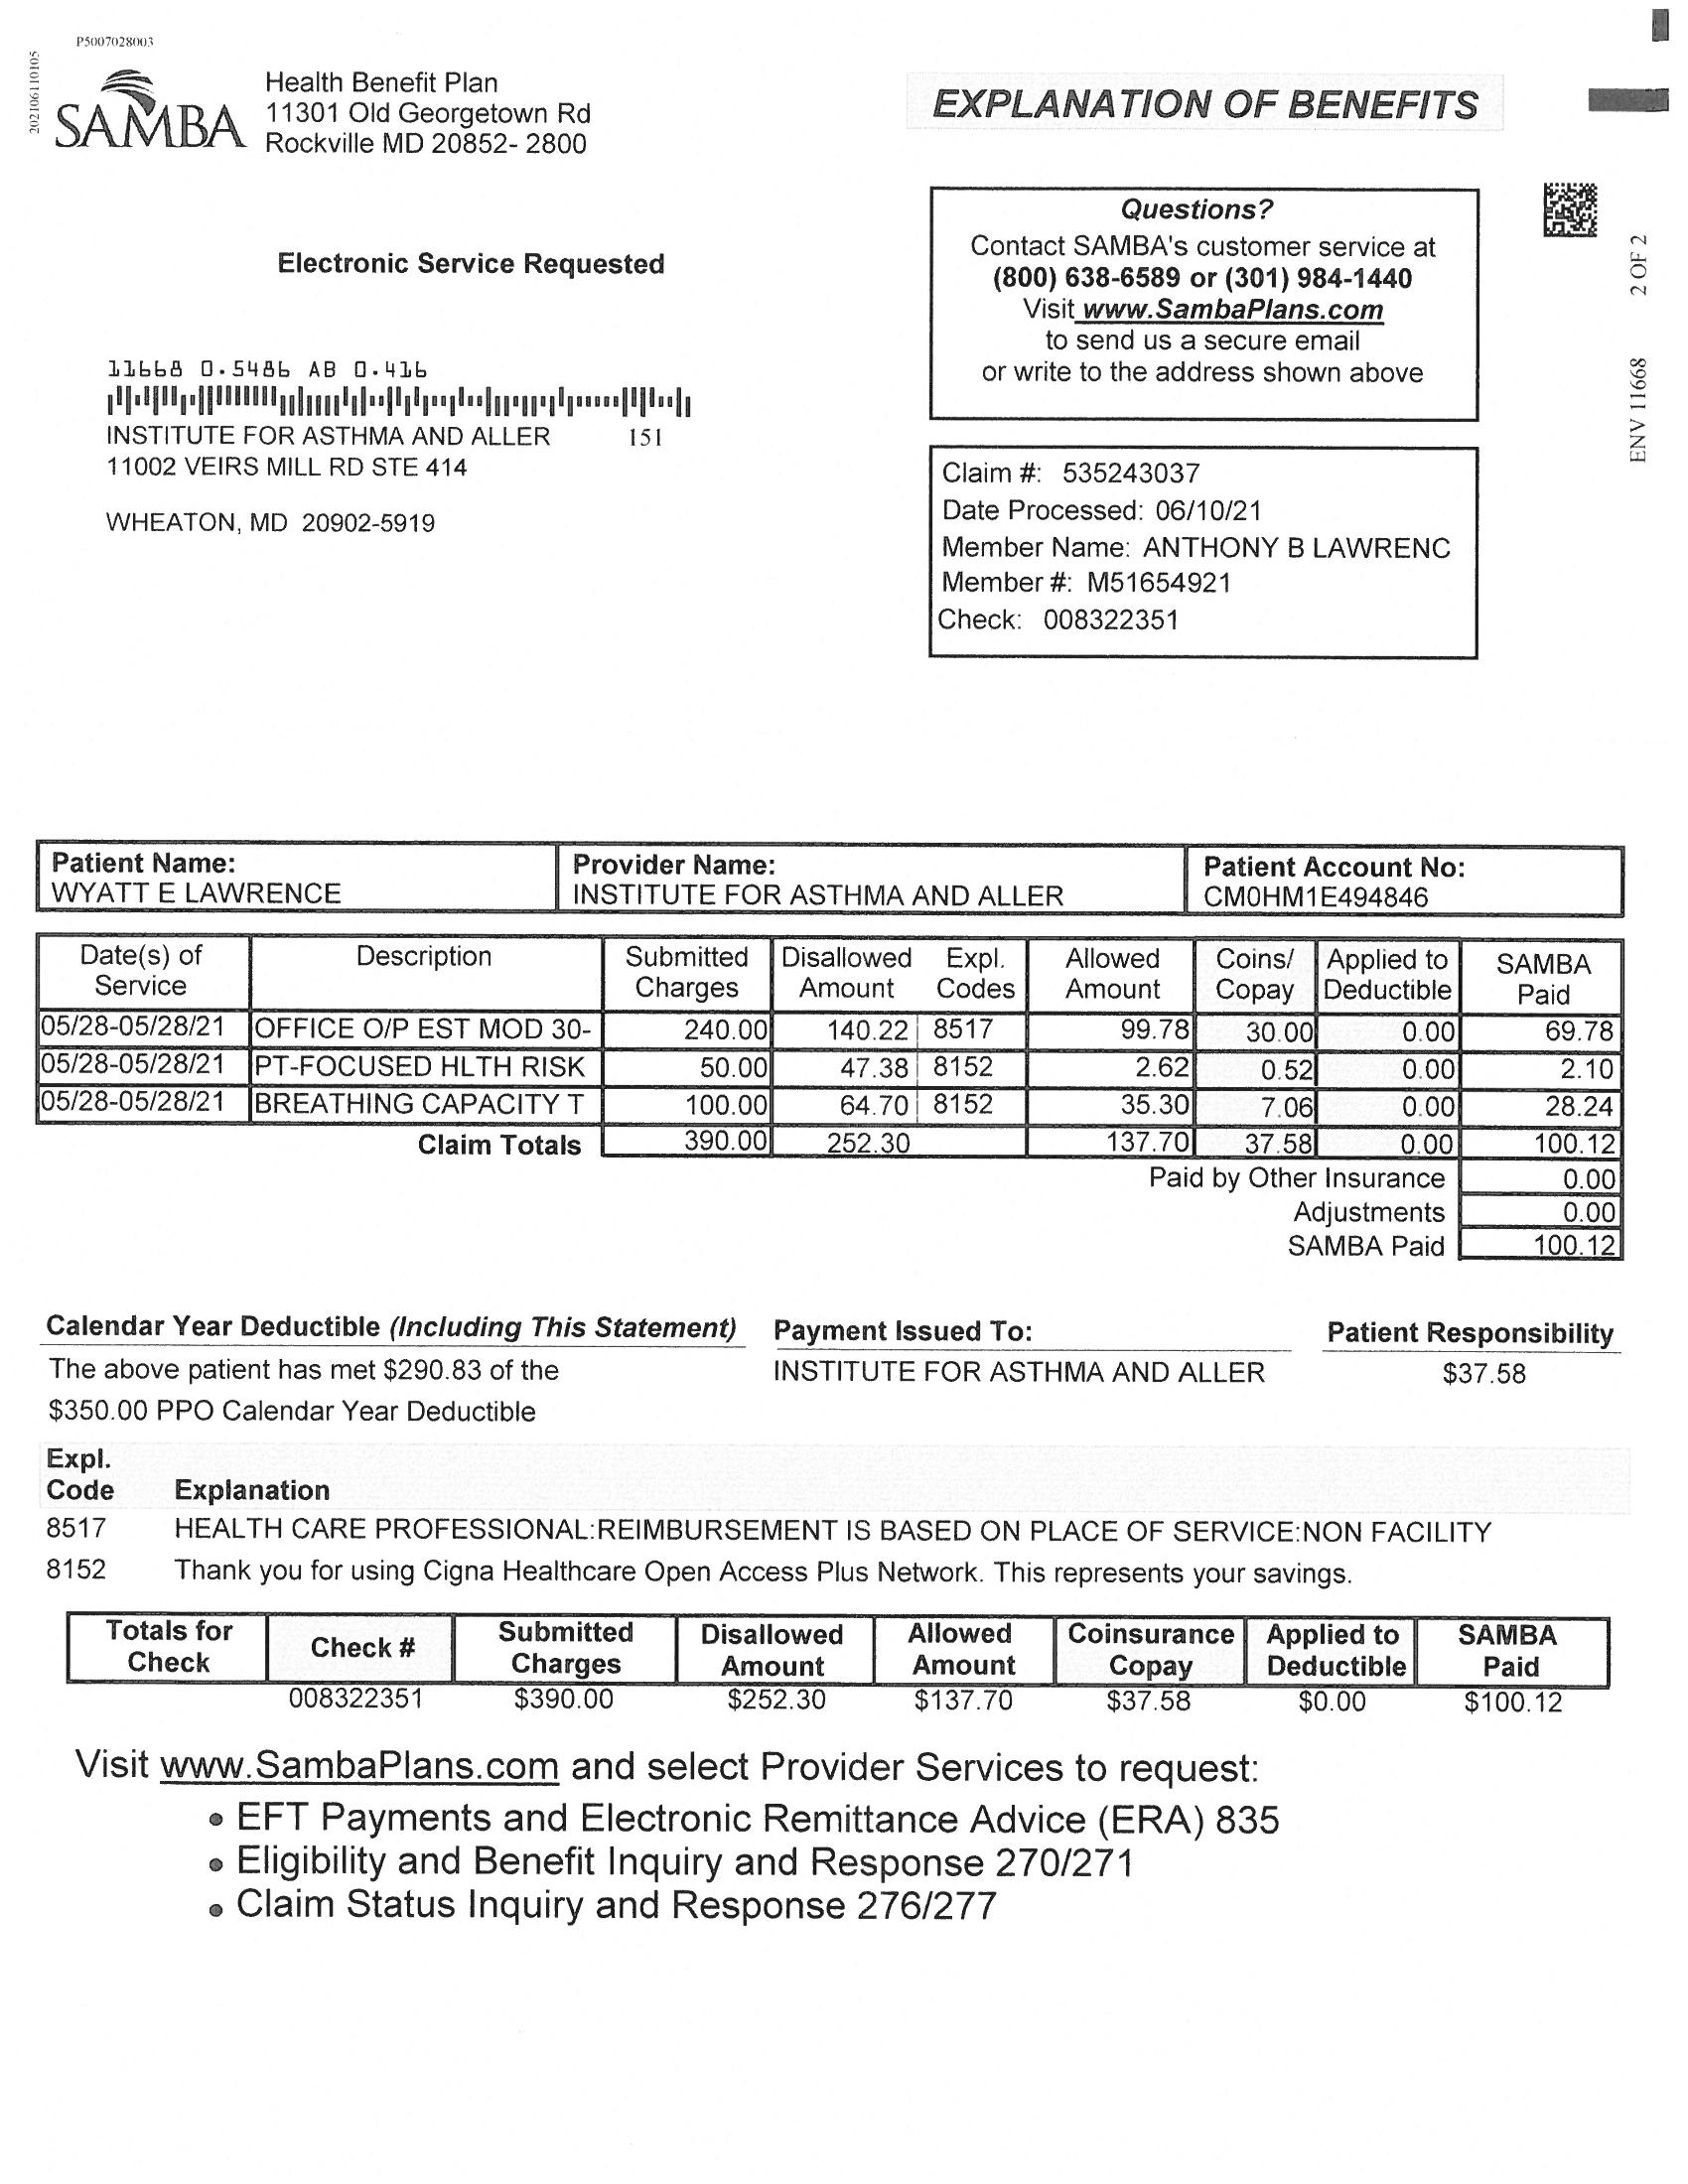data: (911, 434, 1488, 688)
table: (25, 831, 1642, 1276), (57, 1595, 1626, 1734)
